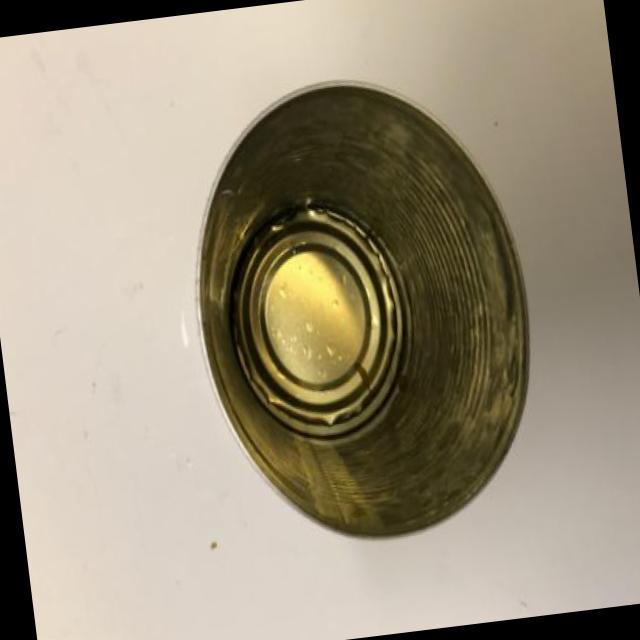metal: (199, 85, 528, 535), (233, 205, 403, 437)
